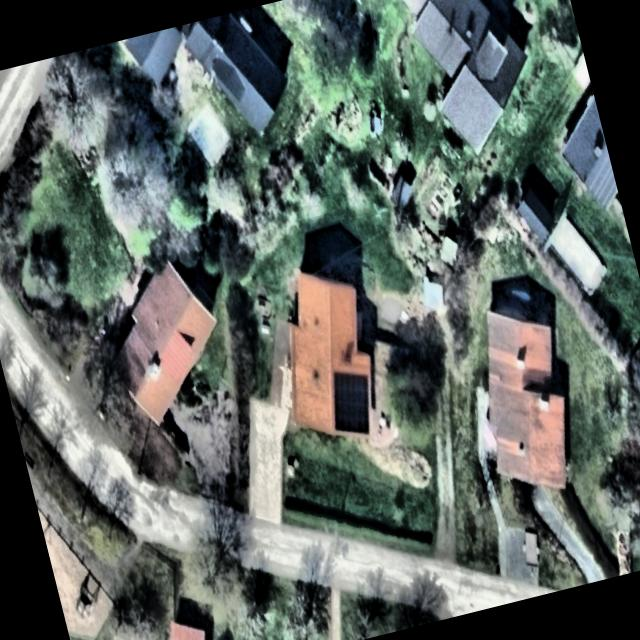roof_pv: (321, 364, 382, 442), (579, 150, 622, 219)
